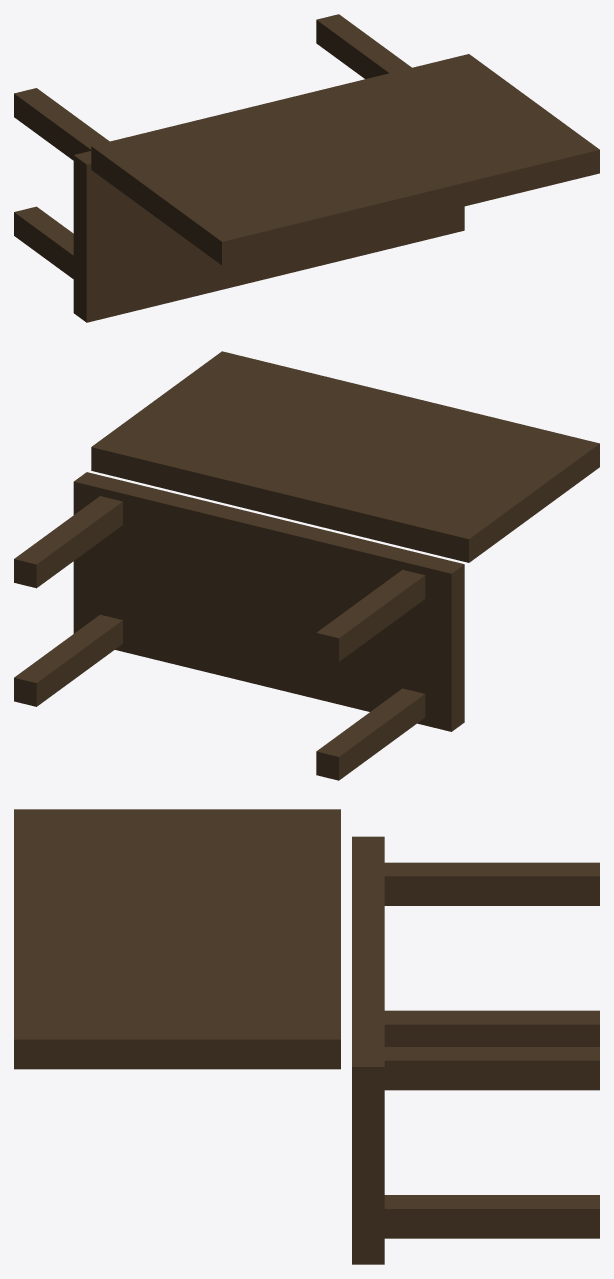
The model's file is workbench_garage.obj.
3 renders of one model, top to bottom at view 1: azimuth 30°, elevation 25°; view 2: azimuth 150°, elevation 25°; view 3: azimuth 270°, elevation 25°, orthographic. The views are drawn at different scales.
Size of the model in its own units: 2 by 0.91 by 2.15.
